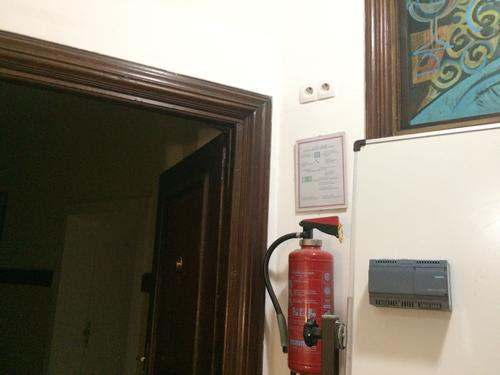iot2000: (368, 258, 454, 313)
